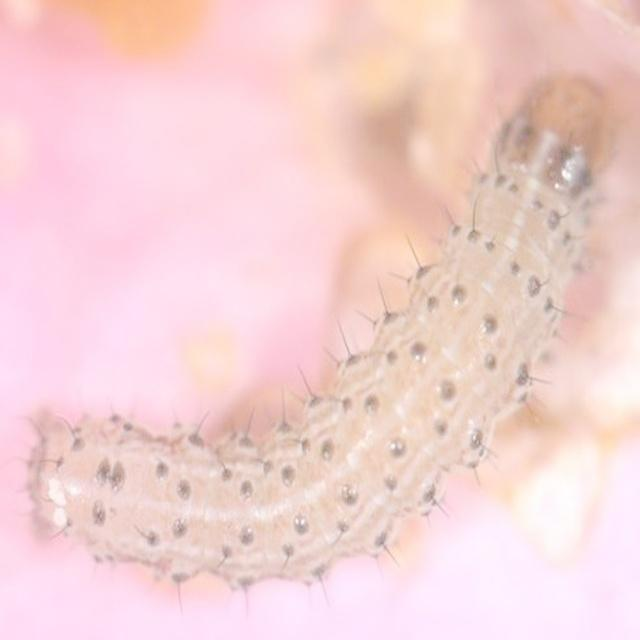gusano_cogollero: (22, 59, 612, 599)
